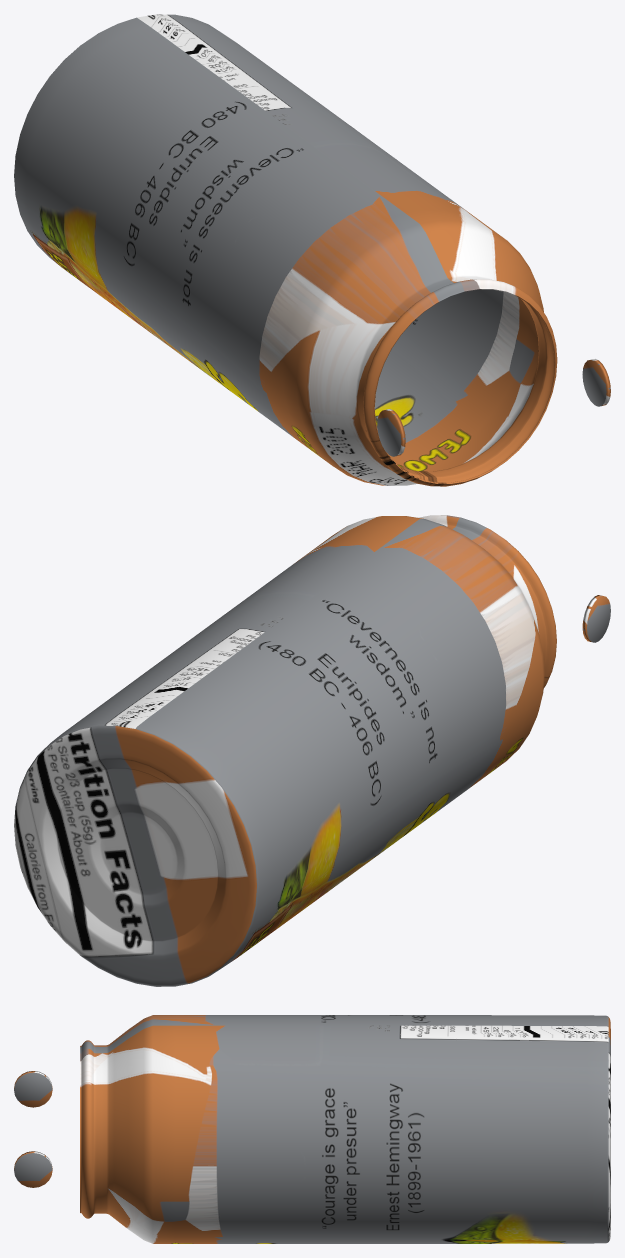
3 views of the same model, one above another, from view 1: azimuth 30°, elevation 25°; view 2: azimuth 150°, elevation 25°; view 3: azimuth 270°, elevation 25° (orthographic). The views are drawn at different scales.
Size of the model in its own units: 0.3731 by 0.3731 by 0.9731.
